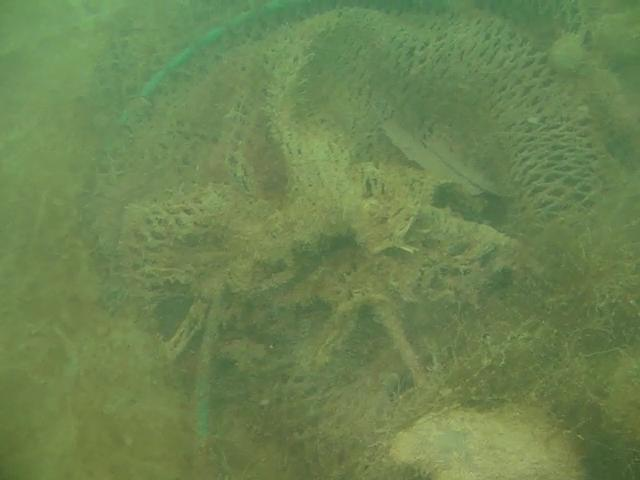fish net: (88, 0, 599, 439)
